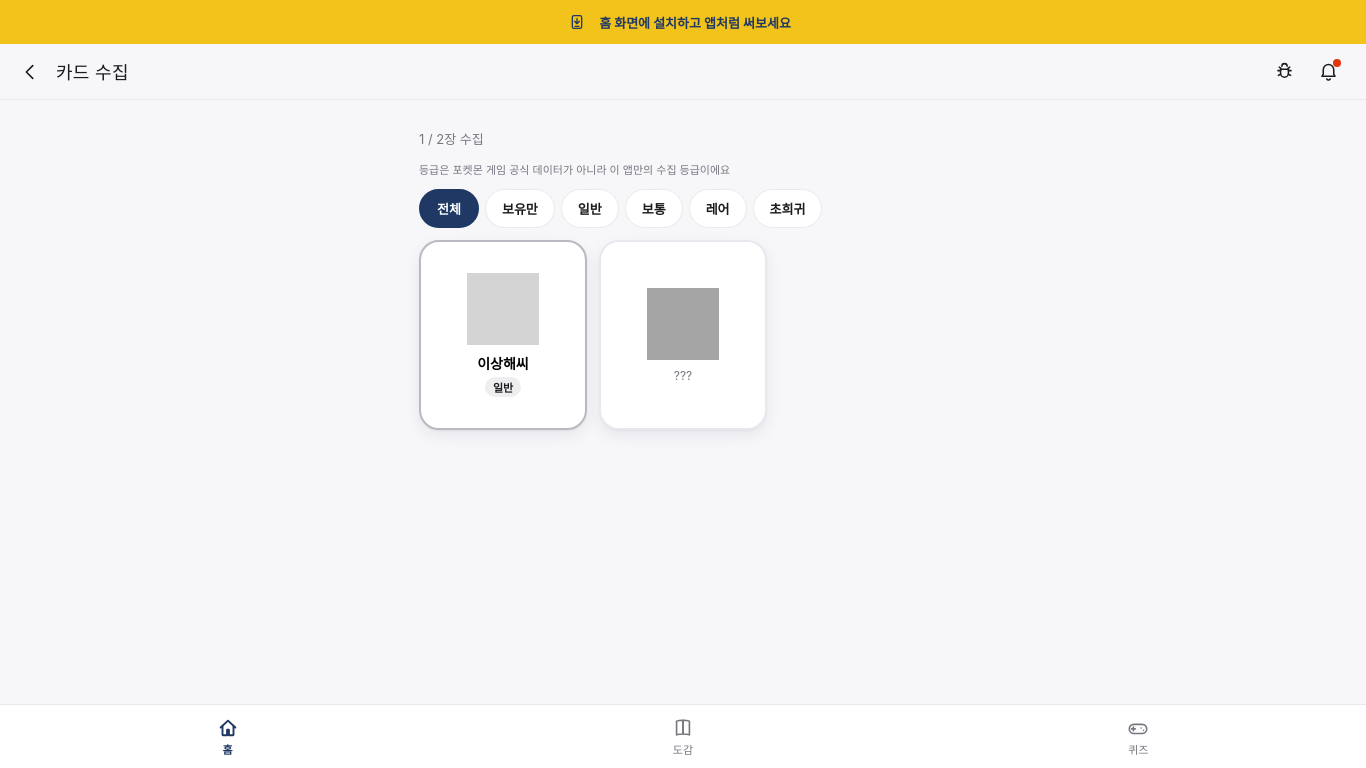
it: CardCollection › '보유만' 필터를 누르면 미보유 카드(물음표)가 사라진다
Expected: the button with aria-label "이상해씨 카드" is shown, [419,240,587,430]
Expected: the text "???" is shown, [674,368,692,382]
Click the button "보유만" at (520, 208), box [485,189,555,228]
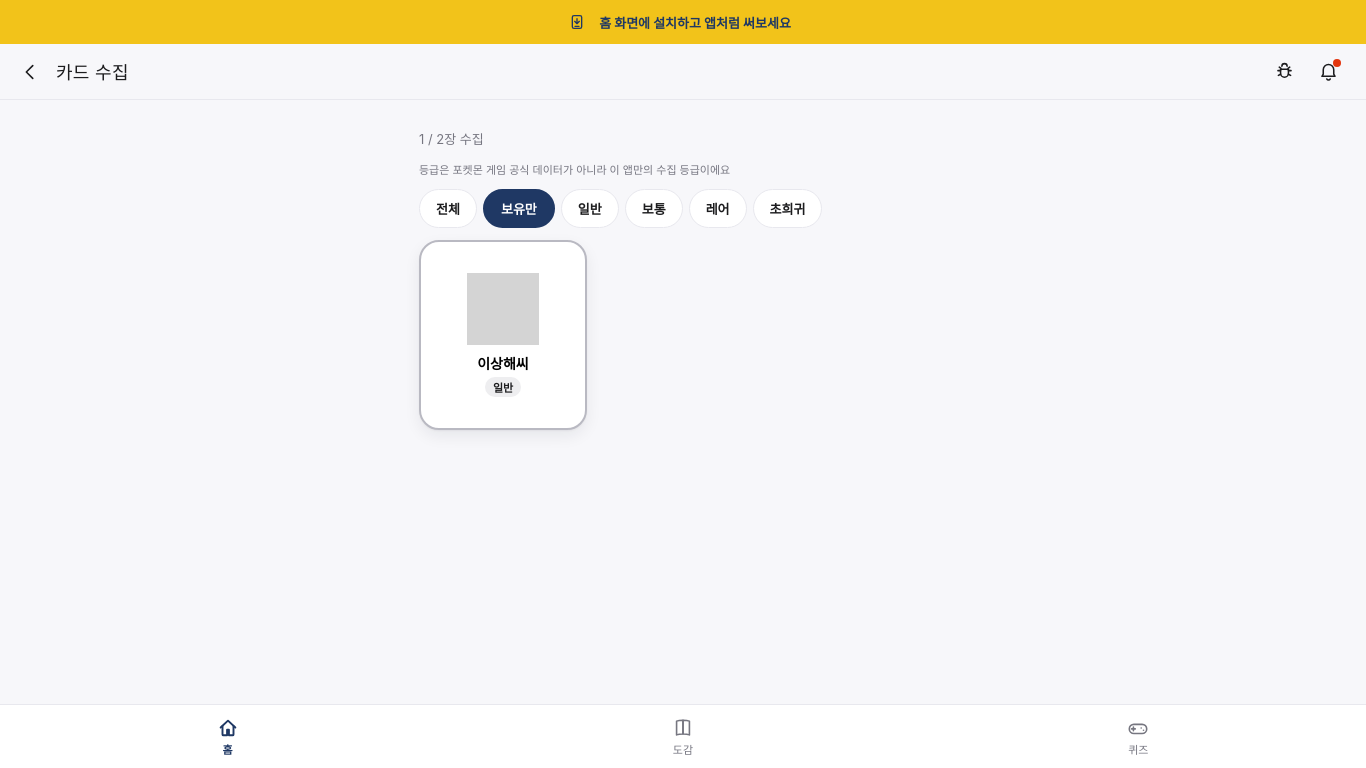
Expected: the button with aria-label "이상해씨 카드" is shown, [419,240,587,430]
Result: the button "???" is gone
